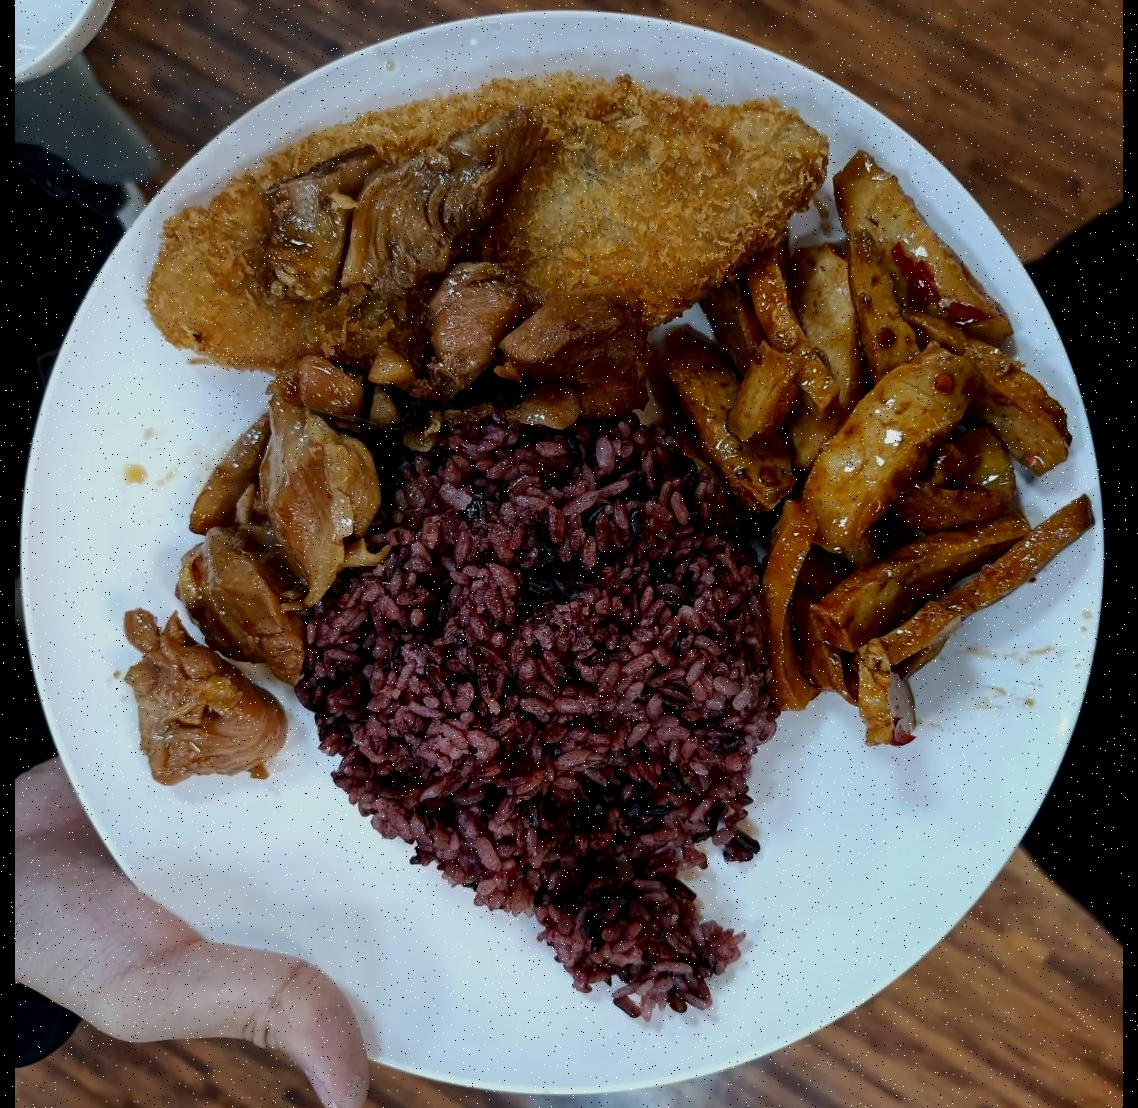big fried chicken leg: (38, 0, 1110, 1101)
braised fish: (293, 407, 766, 1000)
braised fish fillet: (664, 198, 1068, 736)
braised pork: (116, 164, 564, 773), (128, 56, 828, 384)
